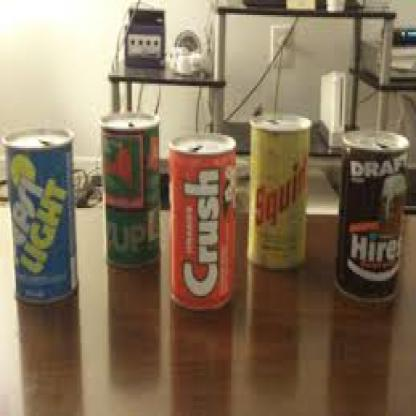Aerosols: (239, 90, 316, 275), (168, 114, 238, 315), (344, 114, 413, 317), (5, 113, 77, 306), (93, 110, 158, 274)
